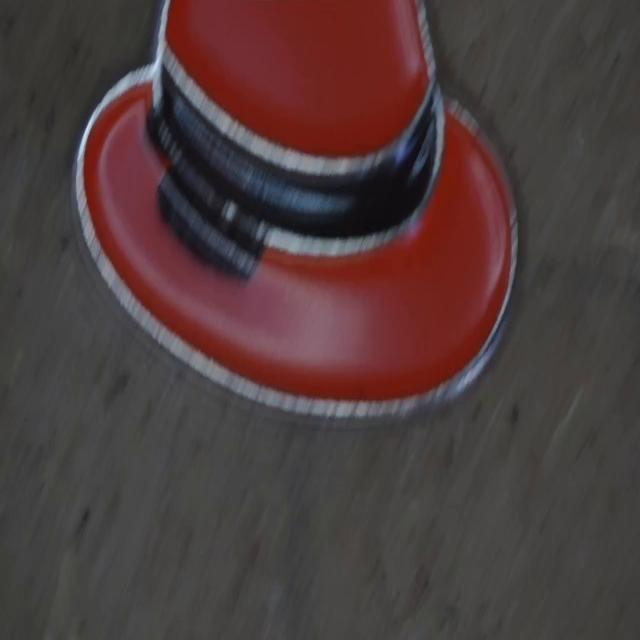Hatband: (162, 44, 441, 237)
Paint_Leak: (149, 107, 269, 277)
RedHatPin: (76, 0, 516, 414)
